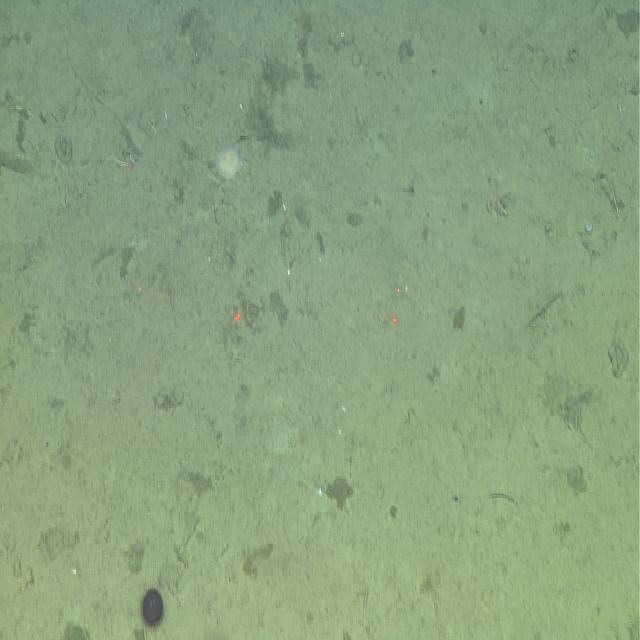Brittle Star: (108, 142, 135, 172)
Not Brittle Star: (140, 582, 168, 632), (213, 142, 241, 179)
